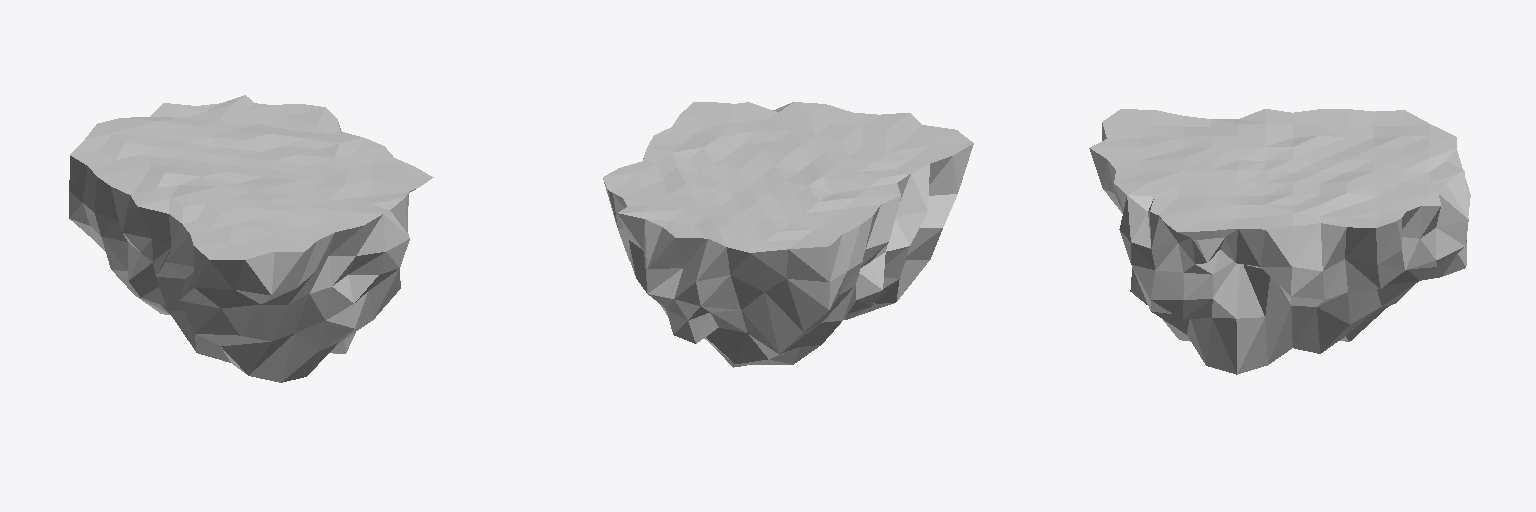
Rendered from ground_block.obj.
3 views of the same model, side by side, from view 1: azimuth 30°, elevation 25°; view 2: azimuth 150°, elevation 25°; view 3: azimuth 270°, elevation 25° (orthographic).
Parts seen in each view (by area): view 1: ground_block_Cube.005; view 2: ground_block_Cube.005; view 3: ground_block_Cube.005.
Part boxes in pixels (x1,y1,x2,y2): ground_block_Cube.005: (69,95,433,382); ground_block_Cube.005: (603,102,973,367); ground_block_Cube.005: (1089,109,1470,374).
Bounding box in the file's own units: 1.81 × 1.16 × 2.33.